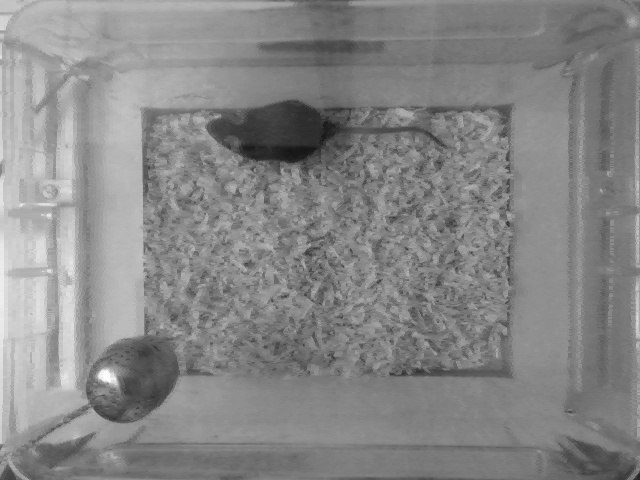mice: (205, 97, 447, 166)
